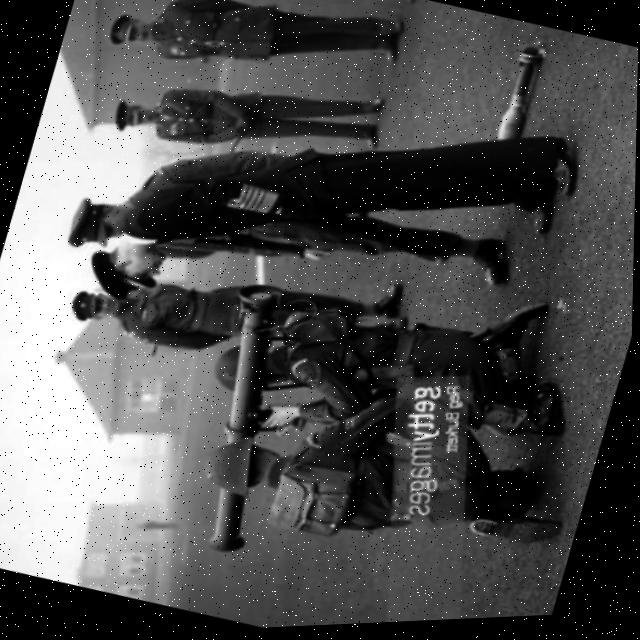rocket: (147, 263, 349, 572)
